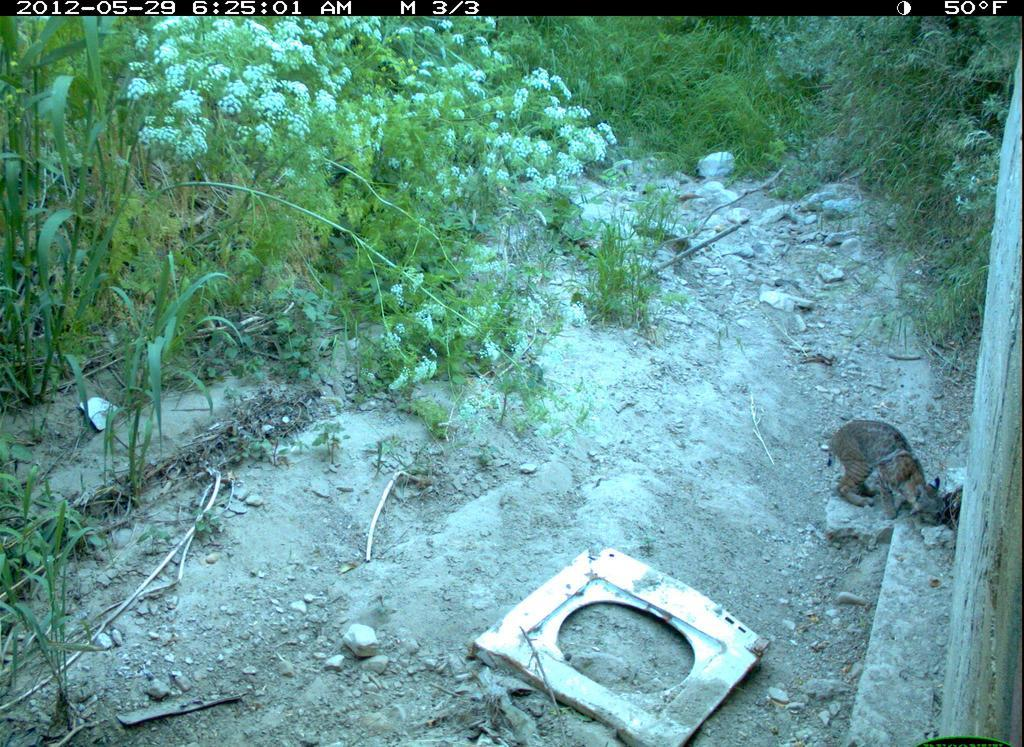bobcat: (824, 417, 951, 530)
